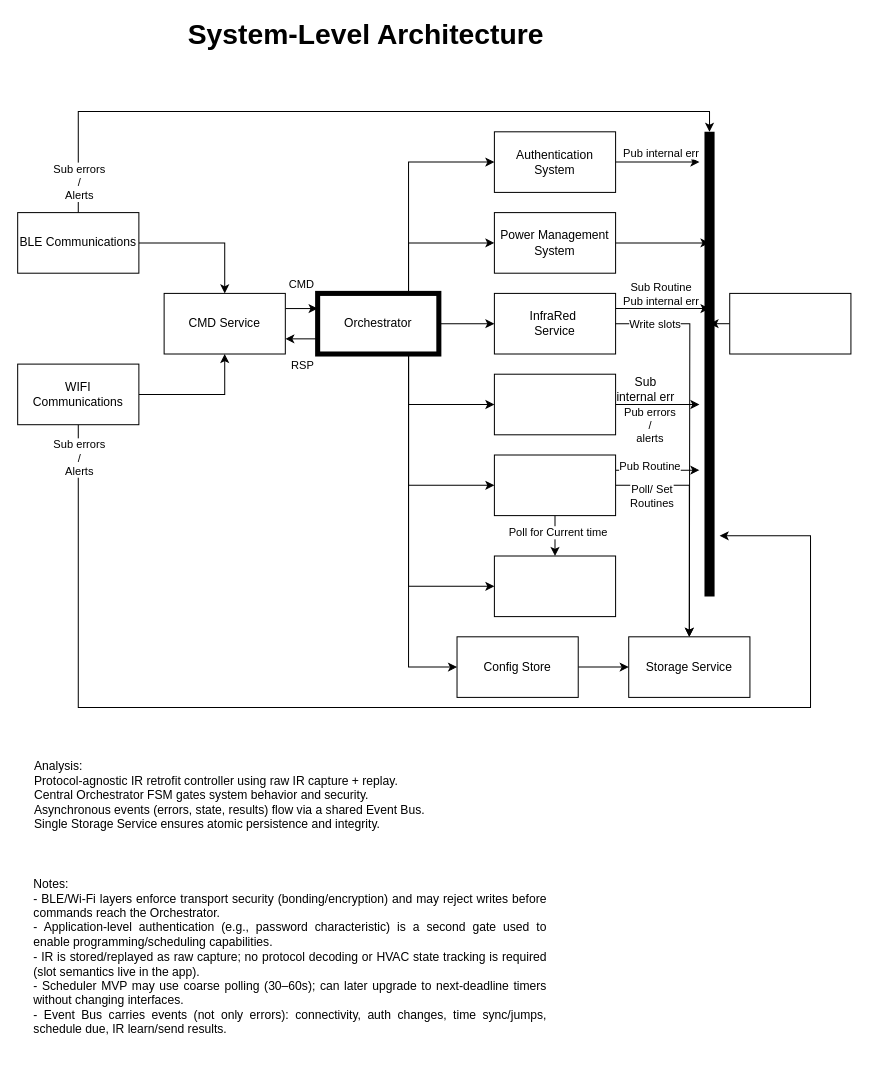
The diagram is 869 pixels wide and 1069 high, and some of its shapes have lost their labels. Each missing label, with the box of its shape:
Error Manager: (493, 373, 616, 435)
Event bus: (729, 292, 851, 354)
RTC: (493, 555, 616, 617)
Scheduler Service: (493, 454, 616, 516)
